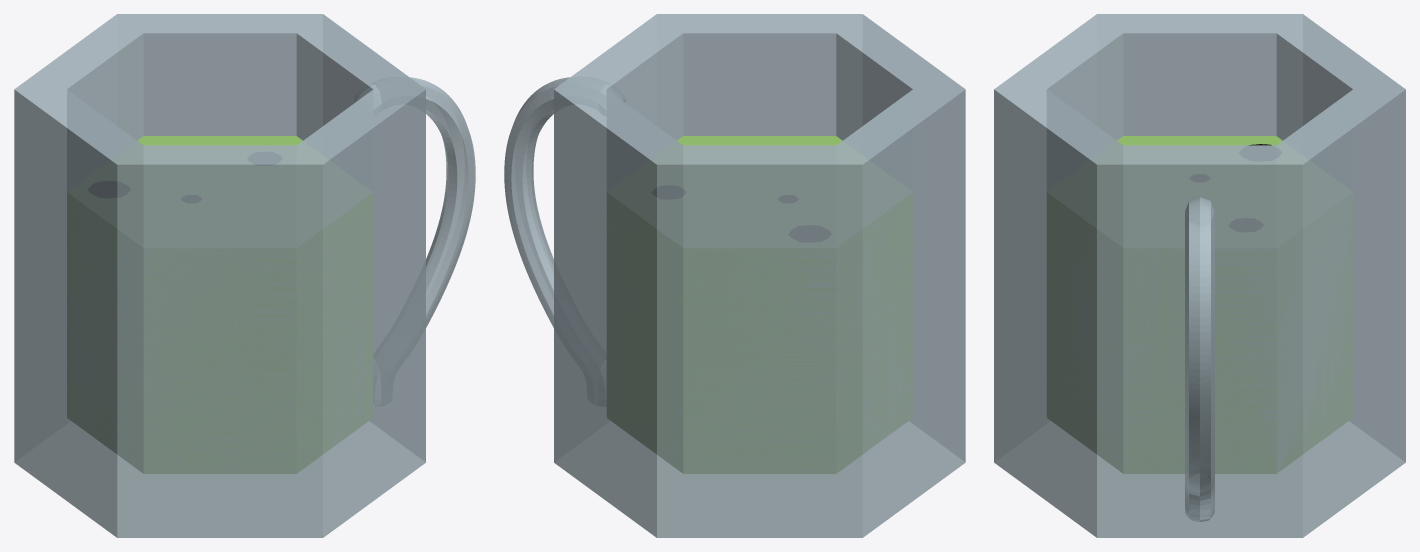
File: MoldyCup.glb
The picture shows the model from 3 angles, left to right: view 1: azimuth 30°, elevation 25°; view 2: azimuth 150°, elevation 25°; view 3: azimuth 270°, elevation 25°; orthographic projection.
Parts seen in each view (by area): view 1: Cylinder, Cylinder.001, Plane; view 2: Cylinder, Cylinder.001, Plane; view 3: Cylinder, Cylinder.001, Plane.
Boxes of the visible parts, bbox=[...] form: Cylinder: bbox=[14, 14, 425, 537]; Cylinder.001: bbox=[67, 136, 372, 473]; Plane: bbox=[354, 77, 475, 406]; Cylinder: bbox=[554, 14, 965, 537]; Cylinder.001: bbox=[607, 136, 912, 473]; Plane: bbox=[504, 77, 625, 406]; Cylinder: bbox=[994, 14, 1405, 537]; Cylinder.001: bbox=[1047, 136, 1352, 473]; Plane: bbox=[1185, 197, 1214, 521].
Bounding box in the file's own units: 0.4476 × 0.3913 × 0.3913.
